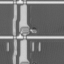dust: (32, 26, 36, 29)
